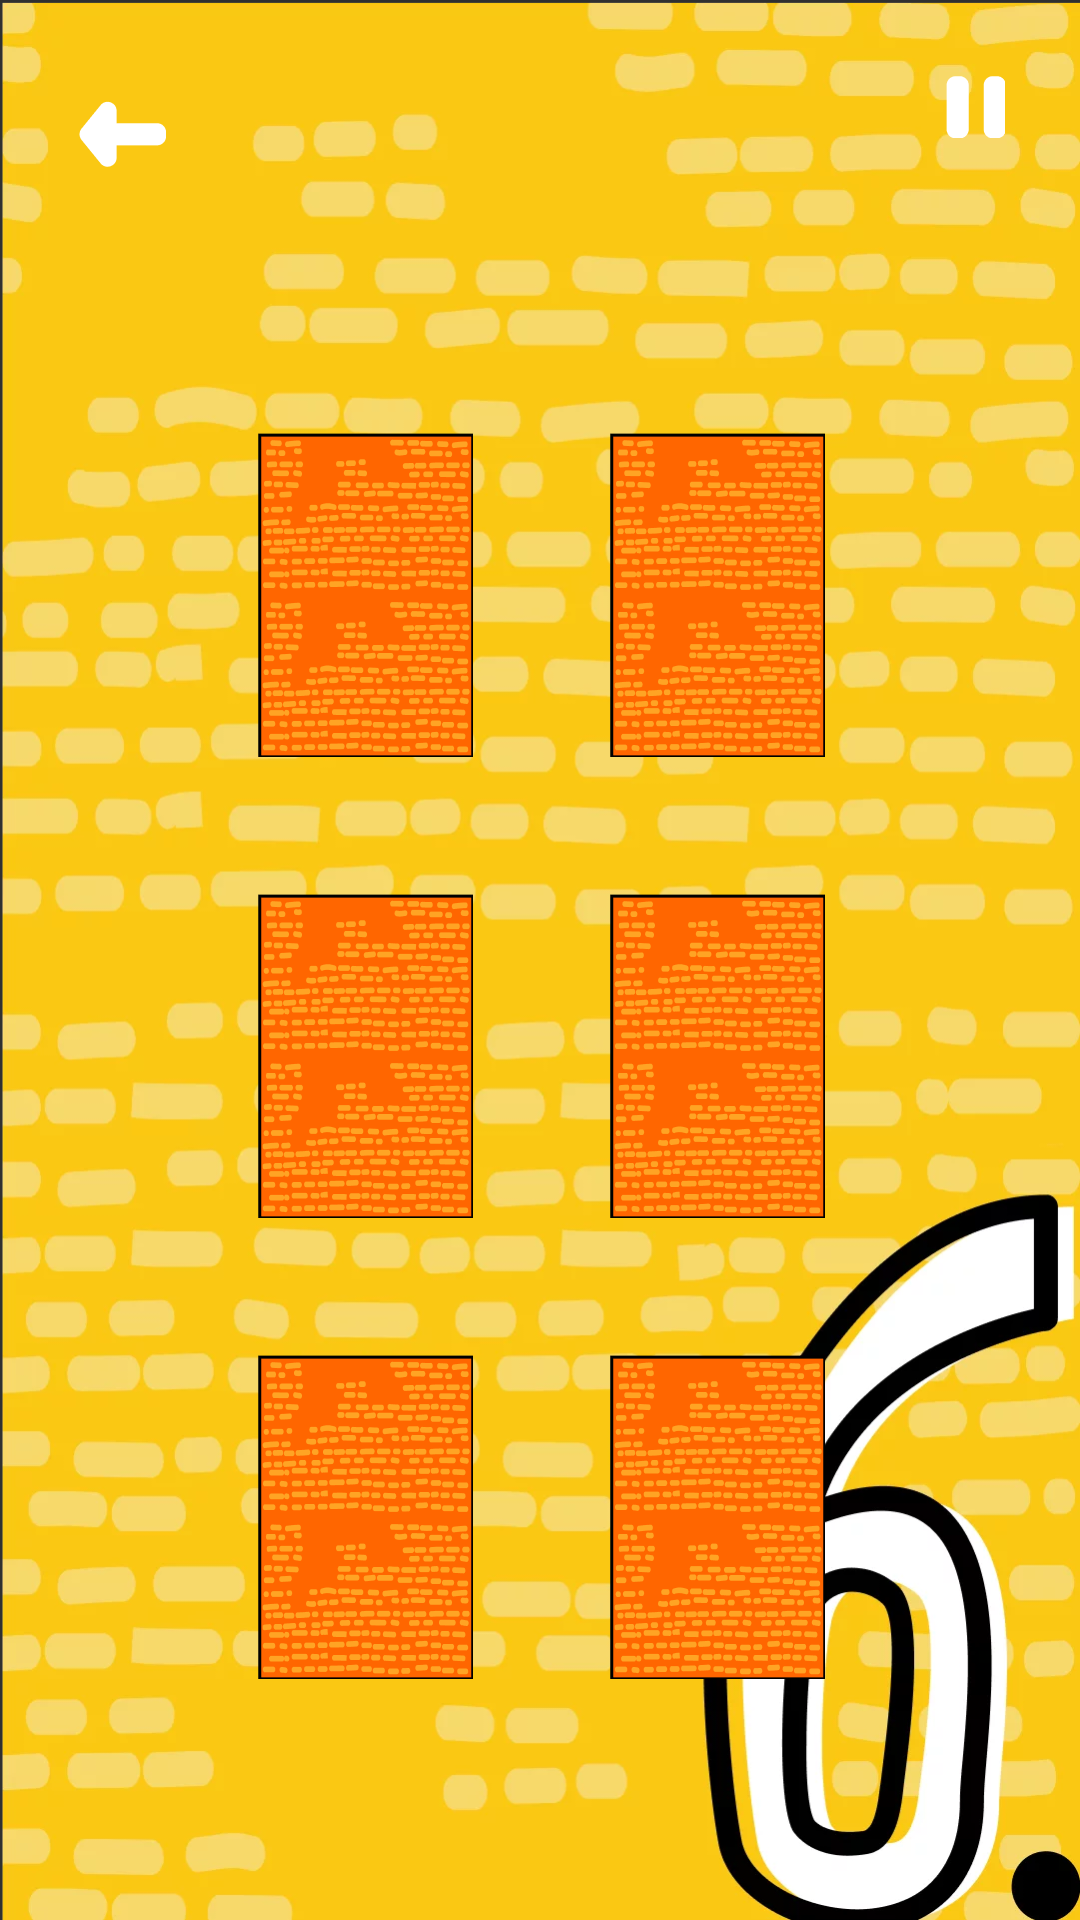

Where to tap for icons on this 1080w x 1920h app screen, as (x,y):
pause: (975,106)
